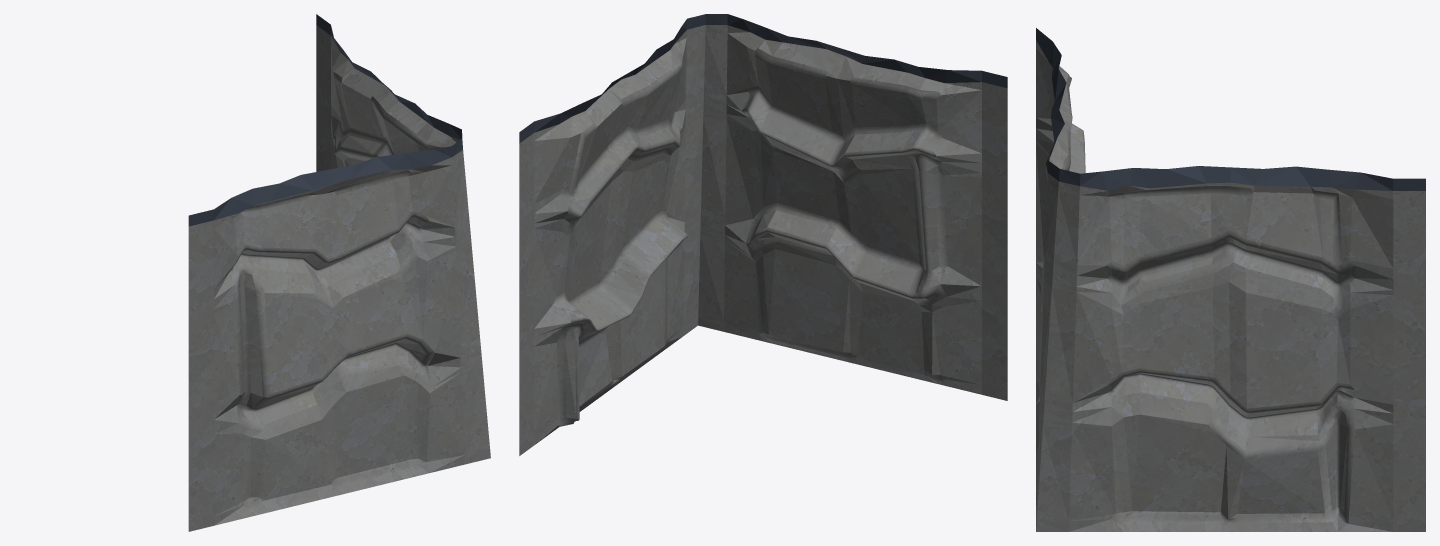
The model's file is cliff_wall_corner_a.glb.
3 views of the same model, side by side, from view 1: azimuth 30°, elevation 25°; view 2: azimuth 150°, elevation 25°; view 3: azimuth 270°, elevation 25° (orthographic). The views are drawn at different scales.
Visible parts, largest first — view 1: CliffWall_corner_a_Body.001; view 2: CliffWall_corner_a_Body.001; view 3: CliffWall_corner_a_Body.001.
Part boxes in pixels (<box>): CliffWall_corner_a_Body.001: <box>188,14,490,531</box>; CliffWall_corner_a_Body.001: <box>519,14,1007,455</box>; CliffWall_corner_a_Body.001: <box>1036,28,1425,531</box>.
Size of the model in its own units: 1 by 1 by 1.
5 materials, 2 textured.
